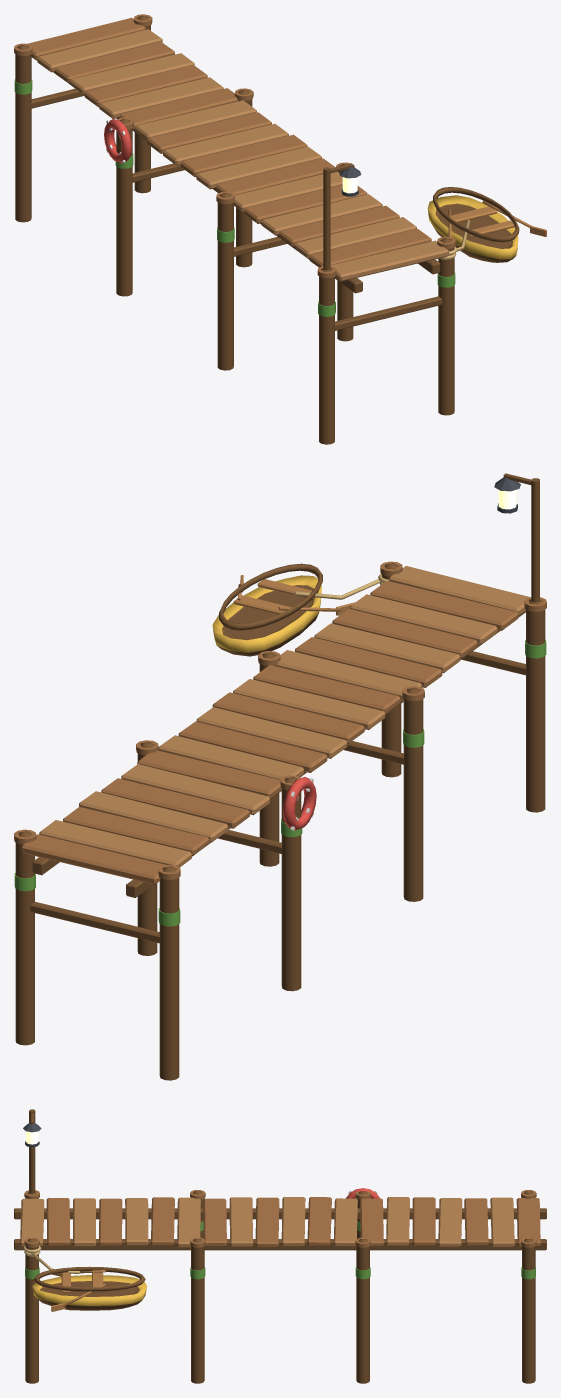
File: pier.glb
The picture shows the model from 3 angles, top to bottom: view 1: azimuth 30°, elevation 25°; view 2: azimuth 150°, elevation 25°; view 3: azimuth 270°, elevation 25°; orthographic projection. The views are drawn at different scales.
Visible parts, largest first — view 1: pier; view 2: pier; view 3: pier.
Boxes of the visible parts, x1,y1,x2,y2 form: pier: [14, 14, 546, 444]; pier: [14, 473, 546, 1080]; pier: [14, 1109, 546, 1383].
Bounding box in the file's own units: 4.38 × 4.7 × 10.2.
